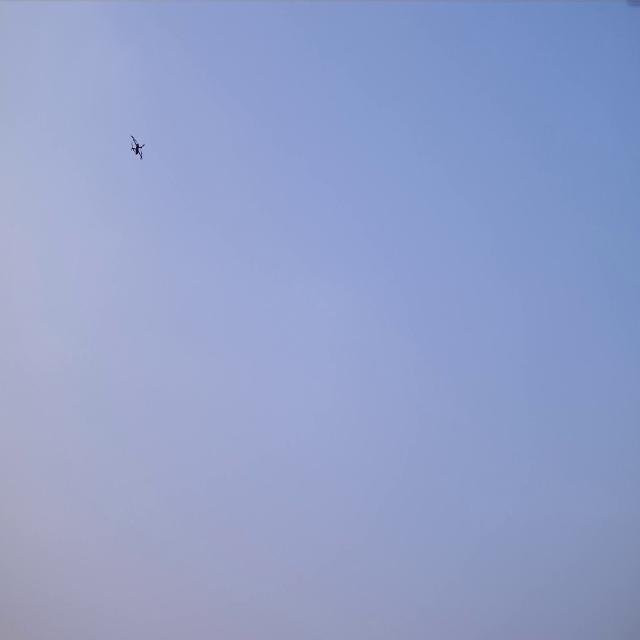UAV: (130, 134, 145, 161)
